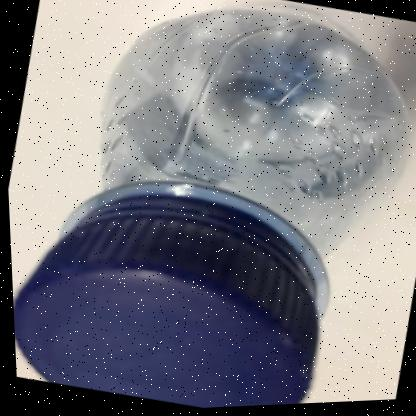Plastic: (11, 7, 404, 409)
